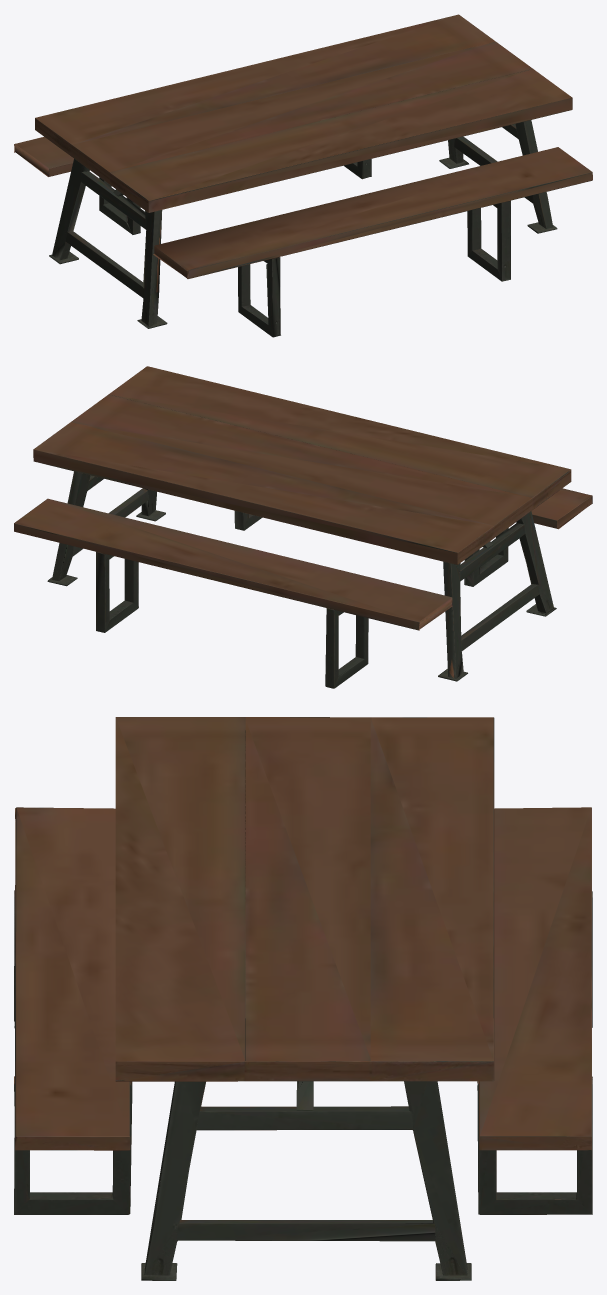
File: dining_table.glb
3 views of the same model, one above another, from view 1: azimuth 30°, elevation 25°; view 2: azimuth 150°, elevation 25°; view 3: azimuth 270°, elevation 25° (orthographic). The views are drawn at different scales.
Bounding box in the file's own units: 2.6 × 0.8056 × 1.85.
1 material, 1 textured.
